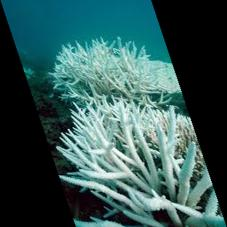bleached_corals: (21, 15, 227, 227)
